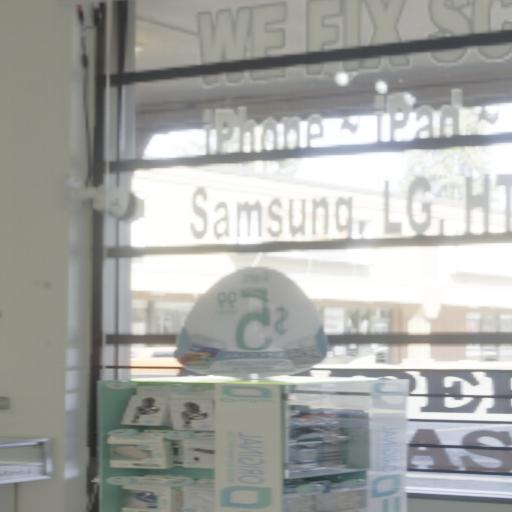nothing: (0, 0, 509, 512)
